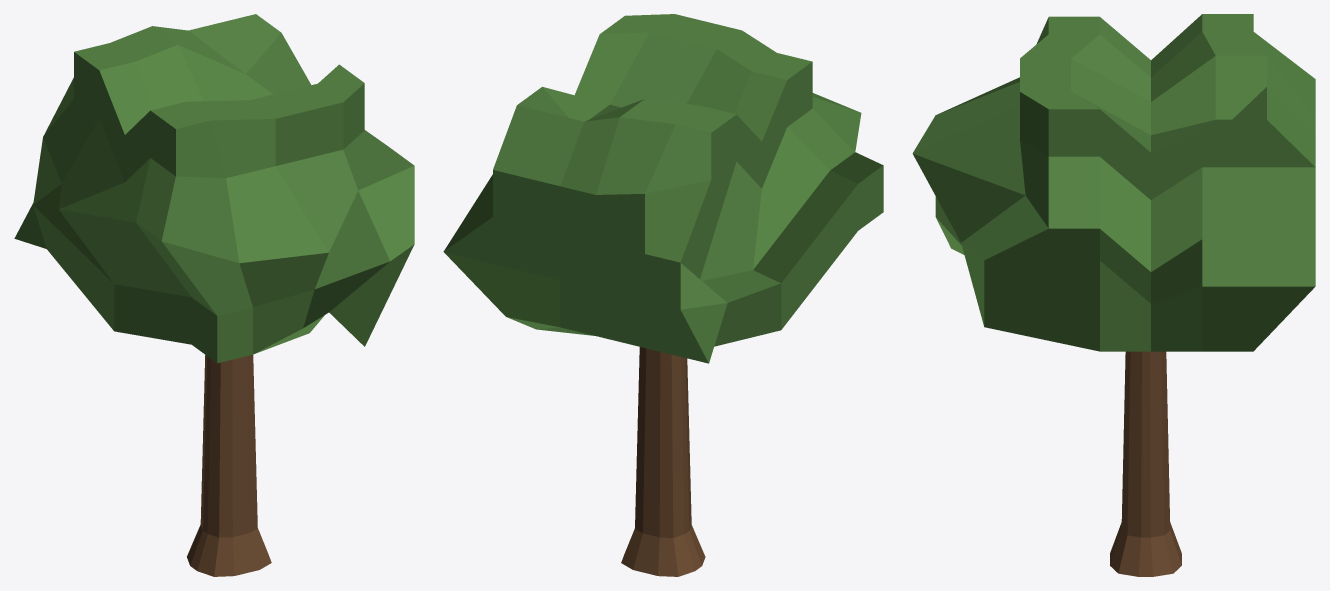
Rendered from Tree.fbx.
The picture shows the model from 3 angles, left to right: view 1: azimuth 30°, elevation 25°; view 2: azimuth 150°, elevation 25°; view 3: azimuth 270°, elevation 25°; orthographic projection.
Visible parts, largest first — view 1: Cube.002; view 2: Cube.002; view 3: Cube.002.
Boxes of the visible parts, x1,y1,x2,y2 form: Cube.002: [14, 14, 414, 576]; Cube.002: [443, 14, 883, 576]; Cube.002: [912, 14, 1315, 576].
Bounding box in the file's own units: 1090 × 1924 × 1418.
